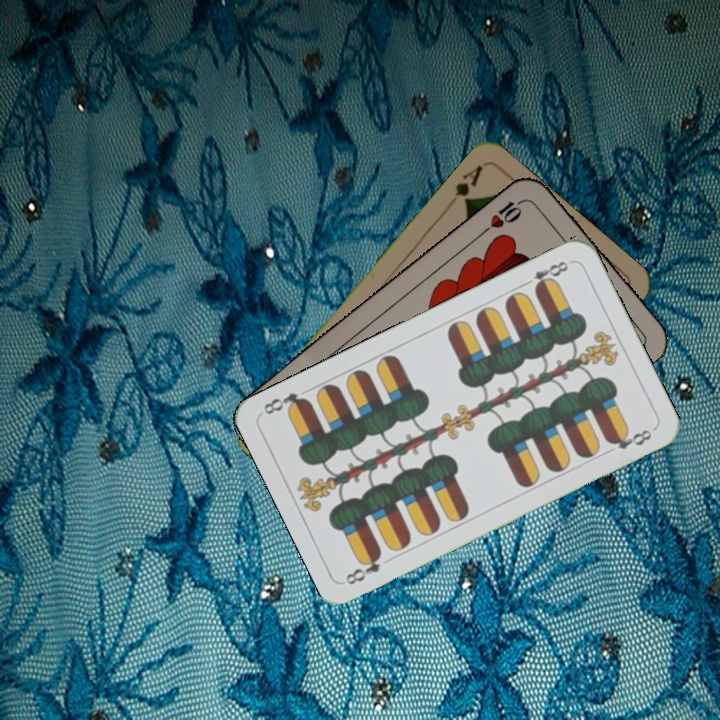E8: (518, 256, 571, 294), (341, 547, 385, 588)
GA: (450, 161, 486, 207)
H10: (478, 195, 528, 237)
